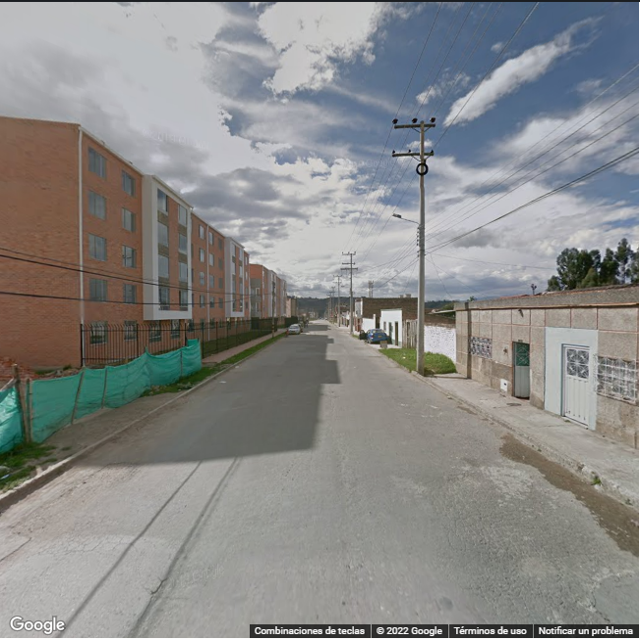D20: (434, 502, 604, 621), (43, 510, 147, 551)
